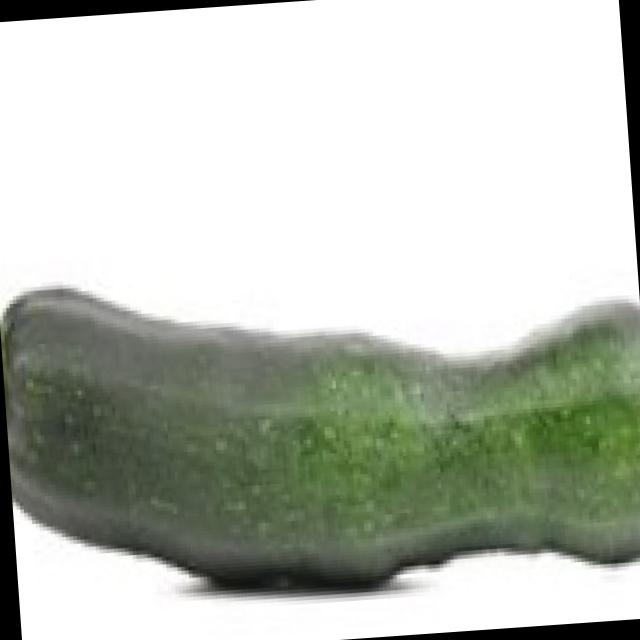cucumber: (0, 240, 640, 615)
